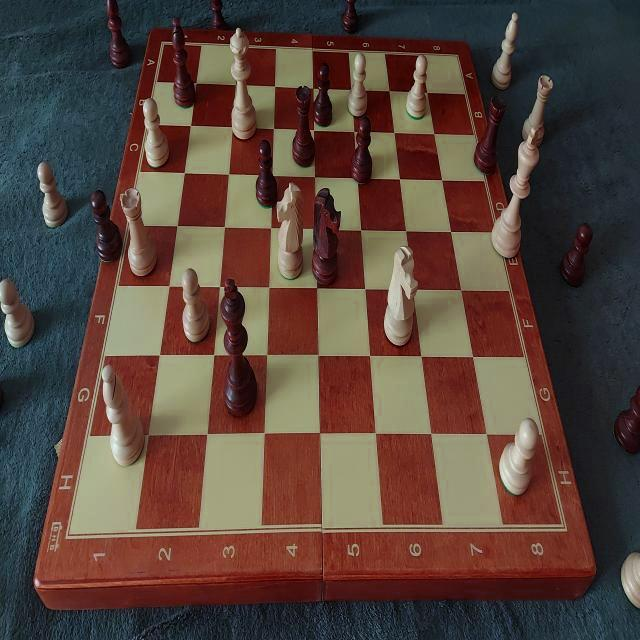chess-table-corners: (550, 504, 576, 546), (62, 516, 83, 554), (446, 41, 466, 70), (154, 33, 170, 56)
